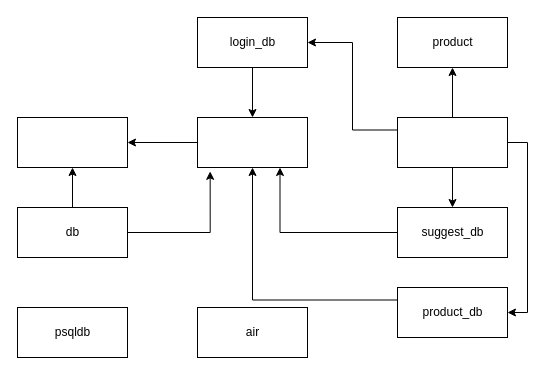
Some shapes in this 553 by 375 pixel diagram are drawn without their labels. Each missing label, with the centre of its shape:
app: (72,142)
jkh_fun: (452,142)
router: (252,142)
